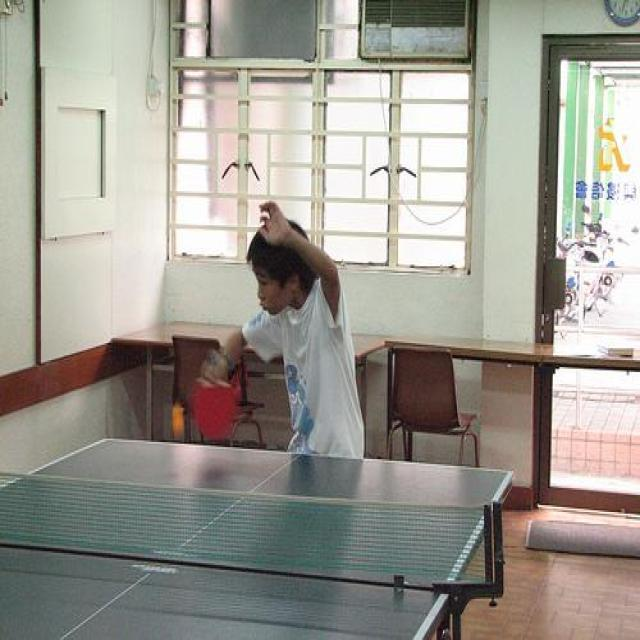ping-pong-ball: (171, 404, 186, 437)
